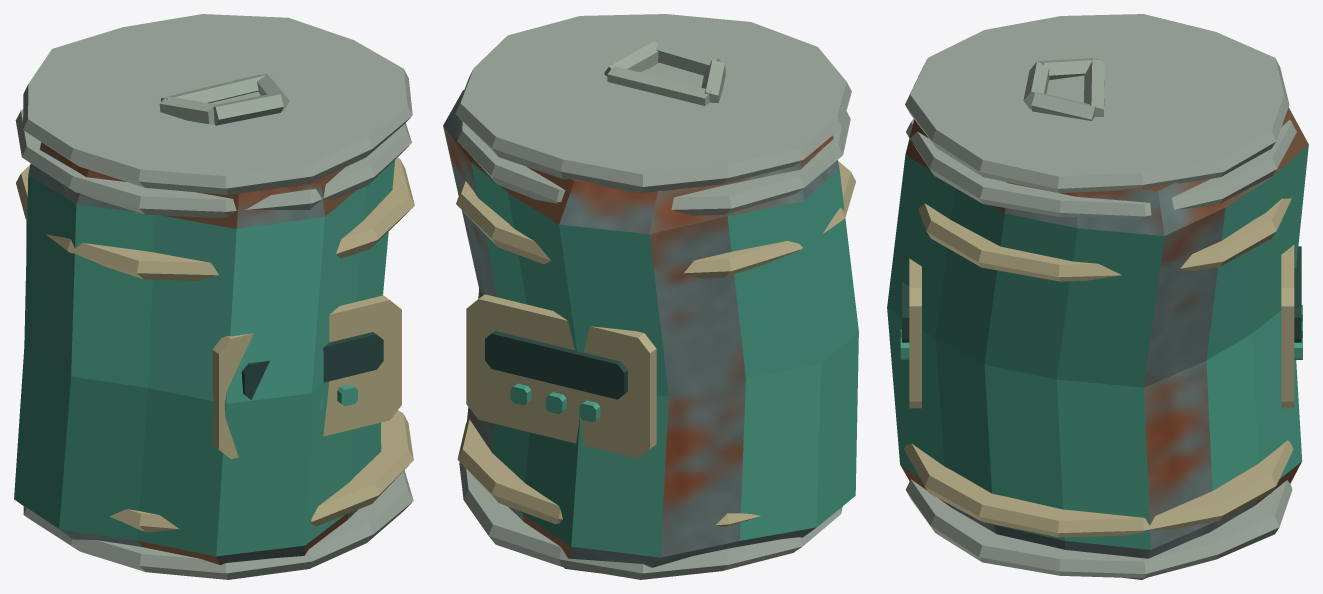
The model's file is ration_tin.glb.
3 renders of one model, left to right at view 1: azimuth 30°, elevation 25°; view 2: azimuth 150°, elevation 25°; view 3: azimuth 270°, elevation 25°, orthographic.
Parts seen in each view (by area): view 1: DentedRationTin; view 2: DentedRationTin; view 3: DentedRationTin.
Part boxes in pixels (x1=…): DentedRationTin: x1=14, y1=14, x2=414, y2=579; DentedRationTin: x1=443, y1=14, x2=858, y2=579; DentedRationTin: x1=887, y1=14, x2=1308, y2=579.
Size of the model in its own units: 0.4827 by 0.5474 by 0.4895.
Materials: 6 (1 with a texture image).
